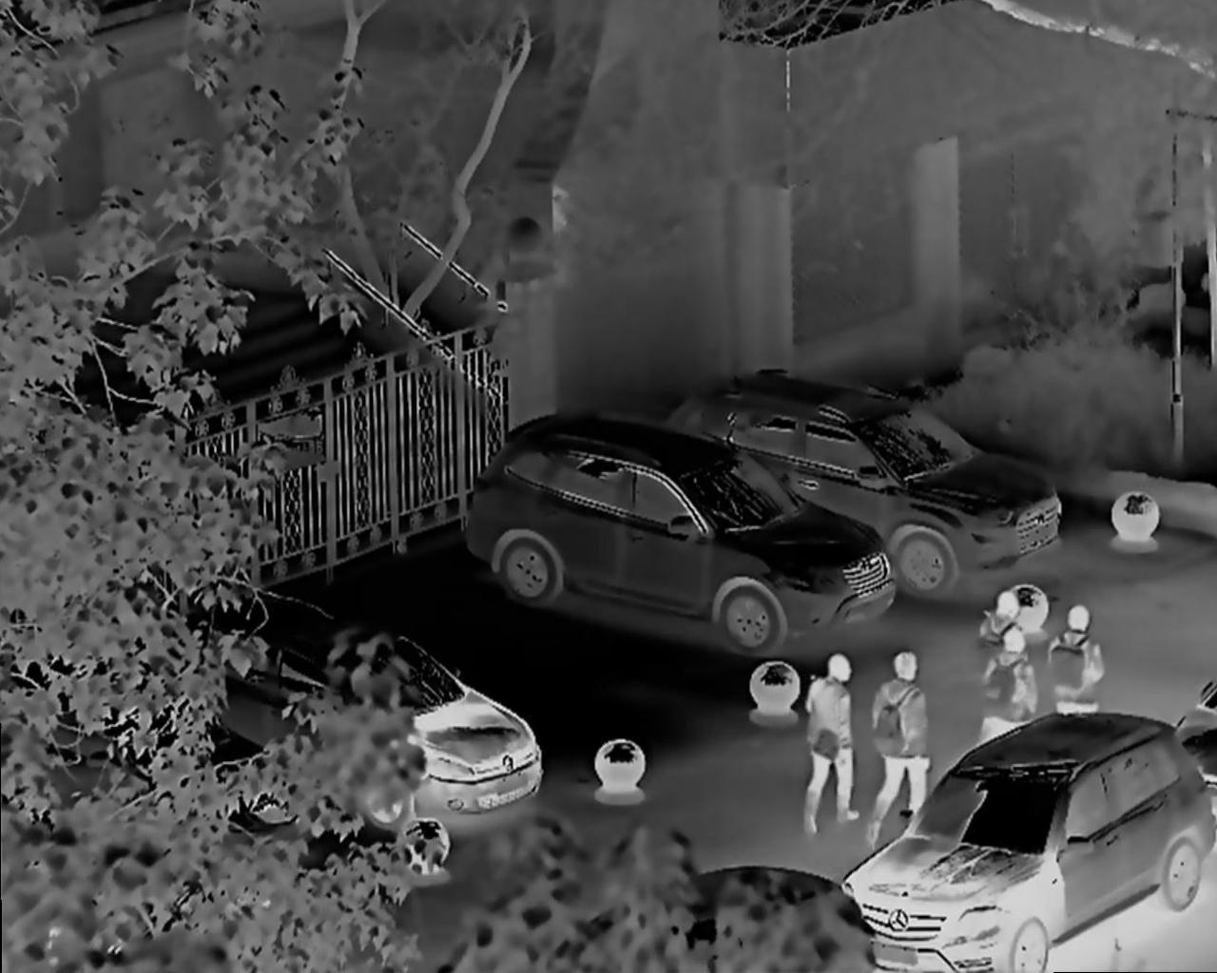person: (798, 647, 863, 828), (877, 654, 930, 827), (1050, 595, 1107, 719), (990, 627, 1033, 756), (991, 586, 1030, 638)
